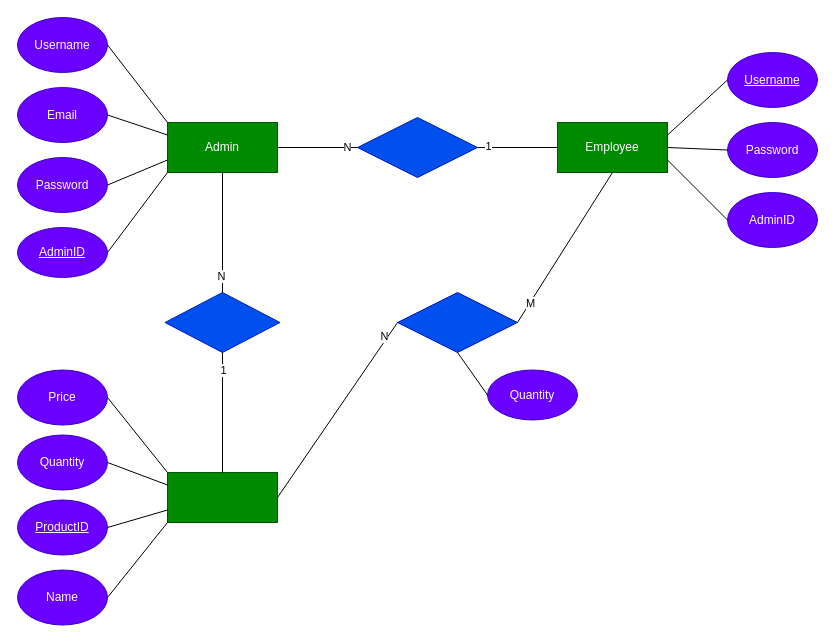
The diagram is 835 pixels wide and 643 high, and some of its shapes have lost their labels. Each missing label, with the box of its shape:
Adds_Employee: (356, 116, 478, 178)
Adds_Product: (164, 292, 280, 352)
Product: (166, 472, 278, 522)
Sells_Product: (396, 292, 518, 352)
